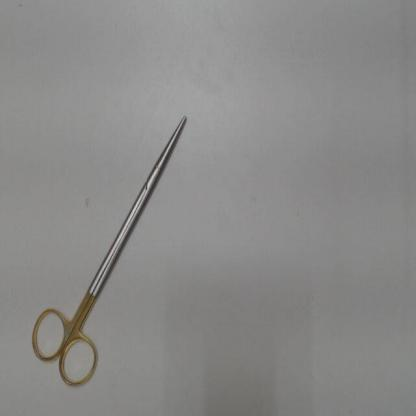7 Metzenbaum Scissors: (27, 112, 190, 393)
